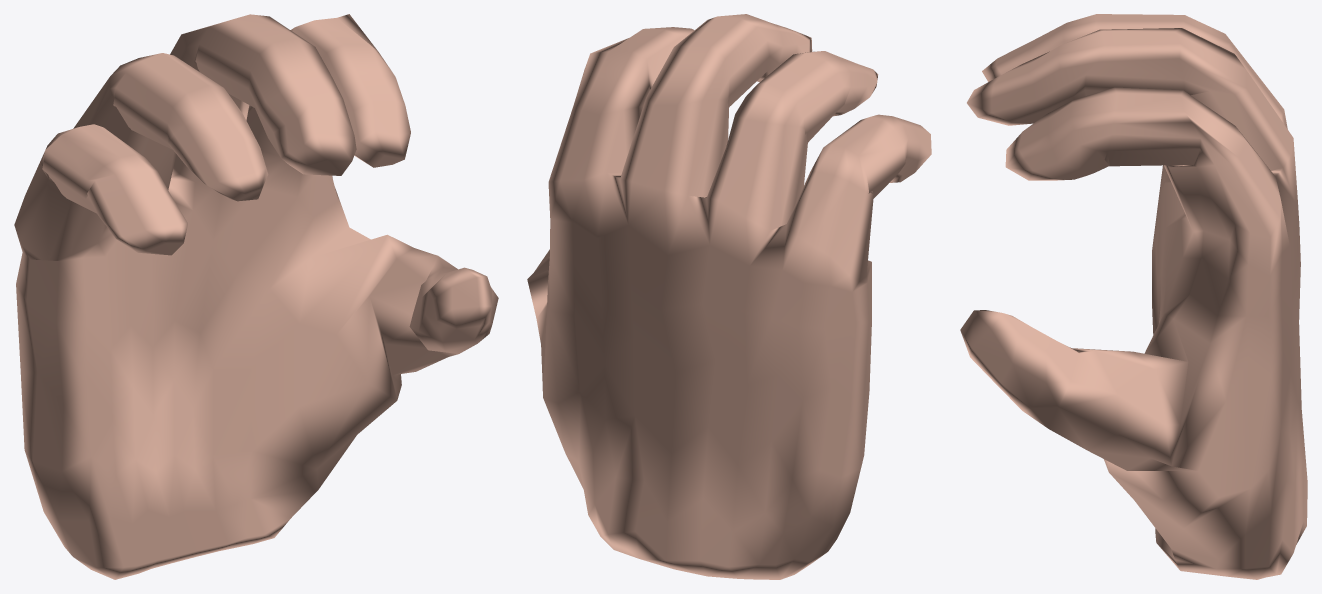
File: MAO_C.obj
3 renders of one model, left to right at view 1: azimuth 30°, elevation 25°; view 2: azimuth 150°, elevation 25°; view 3: azimuth 270°, elevation 25°, orthographic. The views are drawn at different scales.
Parts seen in each view (by area): view 1: mao_dir:mao_dir; view 2: mao_dir:mao_dir; view 3: mao_dir:mao_dir.
Boxes of the visible parts, x1=… form: mao_dir:mao_dir: x1=14, y1=14, x2=498, y2=579; mao_dir:mao_dir: x1=527, y1=14, x2=931, y2=579; mao_dir:mao_dir: x1=960, y1=14, x2=1307, y2=579.
Size of the model in its own units: 140 by 181 by 109.
